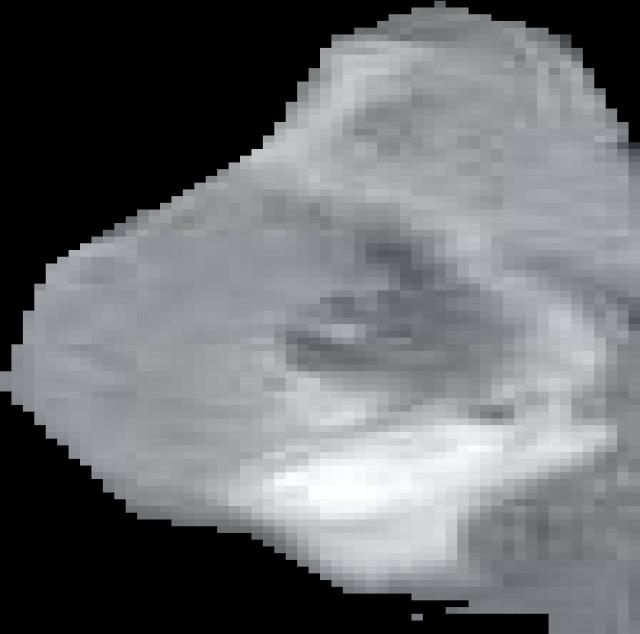tumor_moderate_chance: (0, 1, 640, 634)
